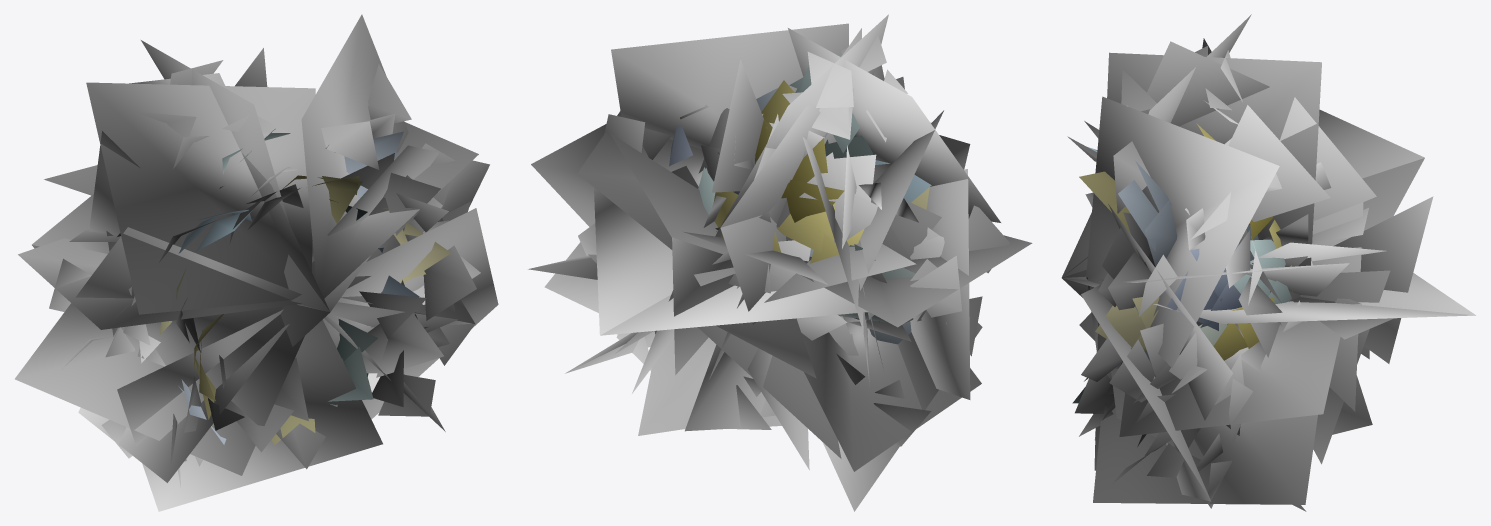
The model's file is SM_000017_tr063_leaf_01.fbx.
The picture shows the model from 3 angles, left to right: view 1: azimuth 30°, elevation 25°; view 2: azimuth 150°, elevation 25°; view 3: azimuth 270°, elevation 25°; orthographic projection.
Visible parts, largest first — view 1: SM_000017.001; view 2: SM_000017.001; view 3: SM_000017.001.
Boxes of the visible parts, x1,y1,x2,y2 form: SM_000017.001: (15,14,498,511); SM_000017.001: (528,14,1032,511); SM_000017.001: (1061,14,1475,511).
Size of the model in its own units: 2.75 by 2.62 by 2.18.
